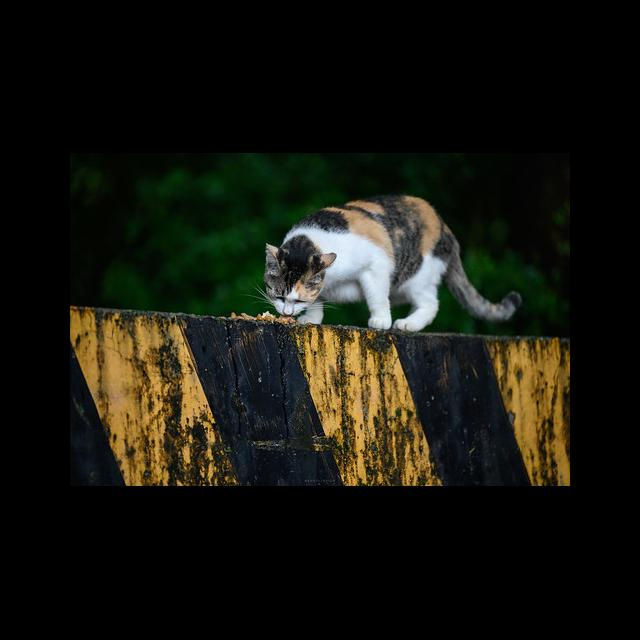animals: (265, 196, 523, 334)
